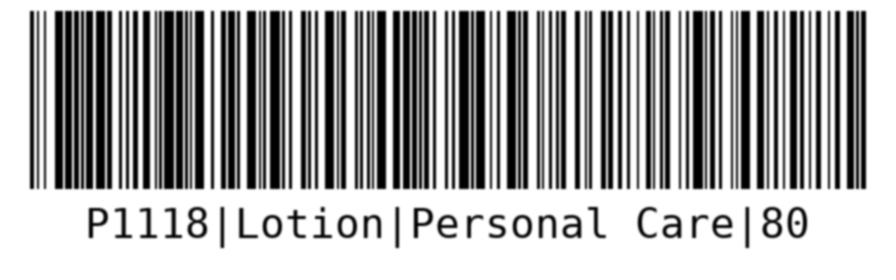milk: (25, 5, 874, 257)
